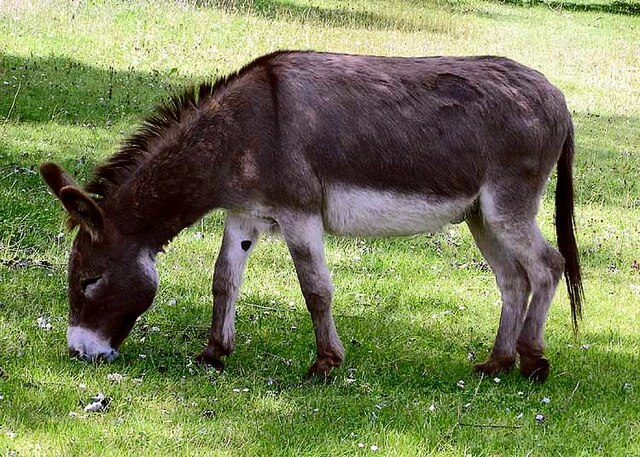donkey: (48, 39, 585, 405)
